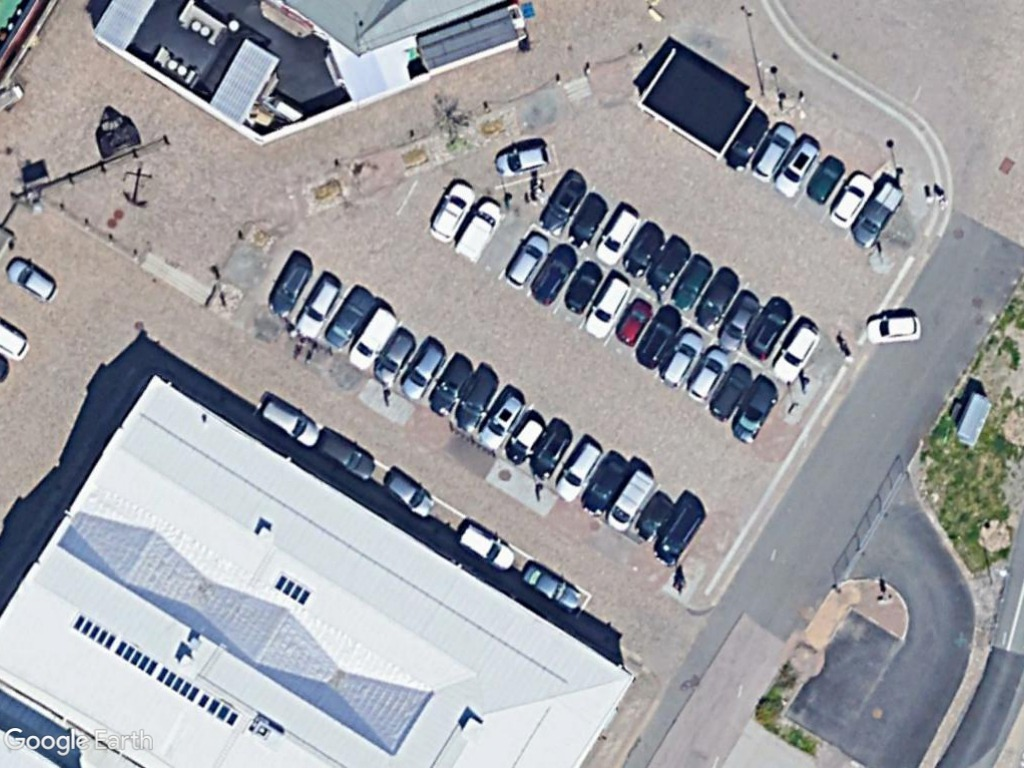car: (646, 492, 712, 571), (318, 280, 381, 358), (286, 266, 347, 346), (725, 371, 787, 448), (623, 296, 685, 372), (443, 362, 503, 438), (249, 391, 322, 452), (309, 424, 381, 485), (424, 174, 483, 247), (259, 249, 318, 322), (549, 434, 608, 507), (517, 555, 586, 617), (471, 385, 532, 455), (767, 312, 823, 388), (451, 518, 523, 577), (741, 292, 798, 366), (533, 169, 593, 239), (638, 230, 697, 300), (573, 448, 632, 518), (745, 120, 803, 189), (589, 200, 646, 270), (527, 237, 582, 309), (824, 164, 880, 234), (719, 107, 773, 179), (579, 269, 633, 341), (421, 351, 476, 421), (770, 134, 823, 206), (711, 286, 764, 358), (394, 335, 448, 405), (500, 226, 556, 293), (688, 266, 740, 336), (377, 461, 438, 520), (653, 325, 708, 389), (365, 322, 417, 389), (705, 351, 754, 422), (522, 419, 575, 484), (681, 335, 734, 399), (562, 187, 613, 253), (2, 255, 64, 308), (665, 252, 717, 315), (497, 408, 549, 468), (618, 219, 668, 279), (860, 306, 929, 349), (557, 255, 606, 315), (800, 151, 850, 207), (490, 140, 555, 183), (610, 290, 653, 348)
other: (849, 179, 910, 252)
van: (596, 462, 661, 538), (342, 303, 404, 378), (450, 193, 509, 266)
